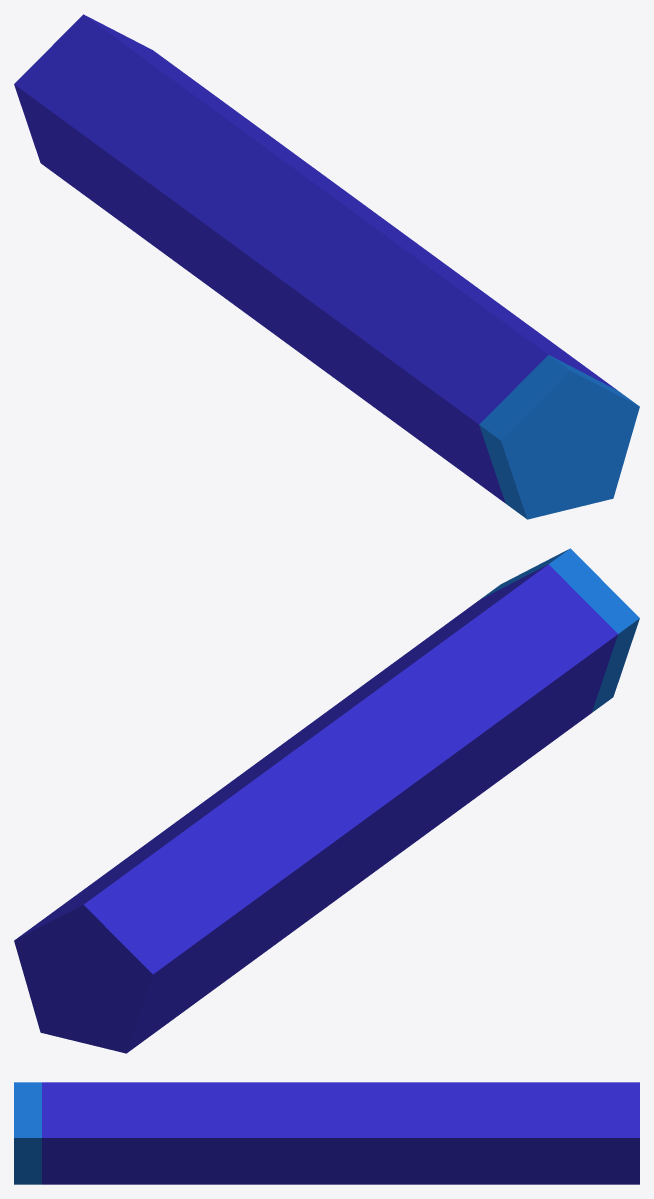
Rendered from SM_hand-rolled_cigarette.fbx.
The picture shows the model from 3 angles, top to bottom: view 1: azimuth 30°, elevation 25°; view 2: azimuth 150°, elevation 25°; view 3: azimuth 270°, elevation 25°; orthographic projection. The views are drawn at different scales.
Visible parts, largest first — view 1: hand_rolled_cigarette_1; view 2: hand_rolled_cigarette_1; view 3: hand_rolled_cigarette_1.
Part boxes in pixels (box(x1,y1,x2,y2)): hand_rolled_cigarette_1: box(14, 14, 639, 519); hand_rolled_cigarette_1: box(14, 548, 639, 1053); hand_rolled_cigarette_1: box(14, 1082, 639, 1184).
Bounding box in the file's own units: 1.04 × 0.9865 × 6.29.
